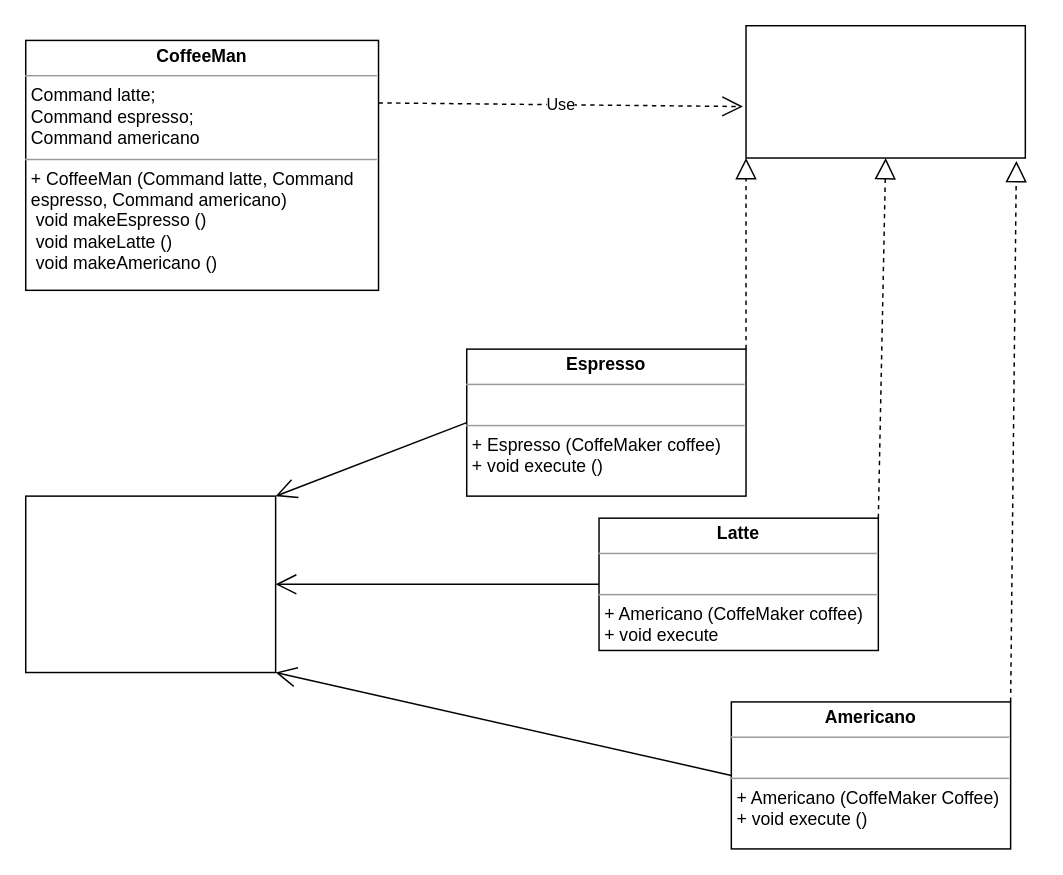
The diagram is 1063 pixels wide and 875 high, and some of its shapes have lost their labels. The box of each missing label's shape, as (x1, y1, x2, y2) in pixels:
<<Interface>> Command void execute (): (745, 24, 1025, 158)
CoffeeMaker void makeEspresso () void makeLatte () void makeAmericano (): (24, 495, 276, 673)
